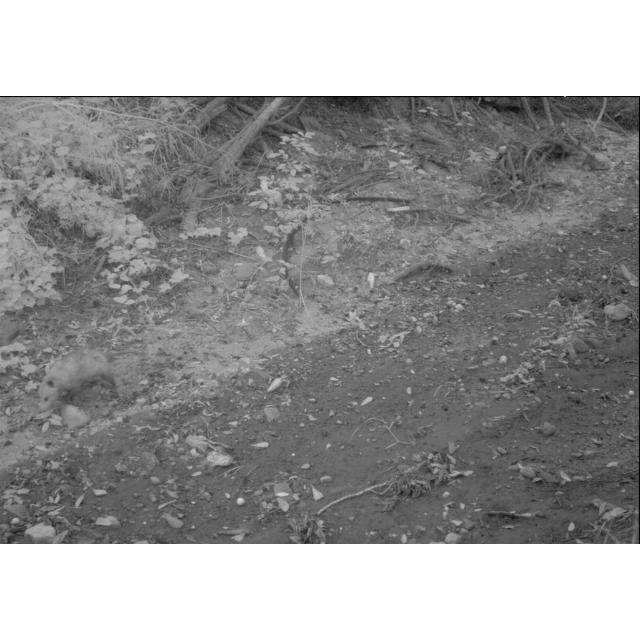animals: (34, 346, 124, 416)
